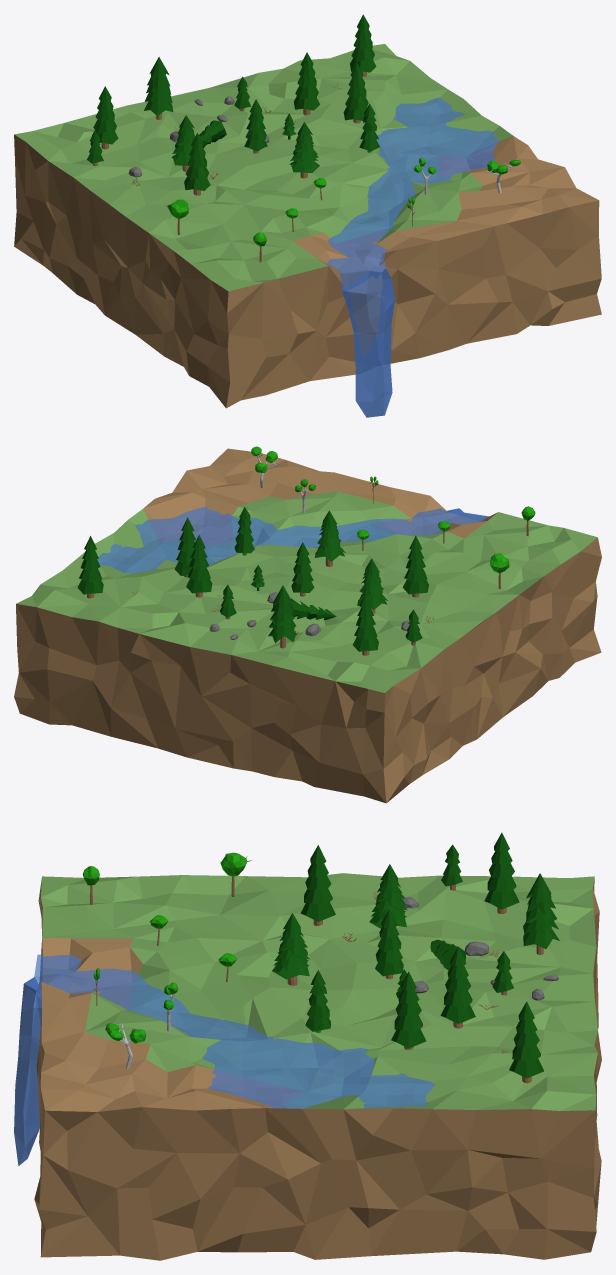
Rendered from Terrain.fbx.
3 views of the same model, one above another, from view 1: azimuth 30°, elevation 25°; view 2: azimuth 150°, elevation 25°; view 3: azimuth 270°, elevation 25° (orthographic). The views are drawn at different scales.
Parts seen in each view (by area): view 1: Terrain_1; view 2: Terrain_1; view 3: Terrain_1.
Part boxes in pixels (box(x1,y1,x2,y2)): Terrain_1: box(14, 14, 601, 417); Terrain_1: box(14, 446, 601, 803); Terrain_1: box(14, 832, 601, 1260).
Bounding box in the file's own units: 6636 × 3615 × 6866.
